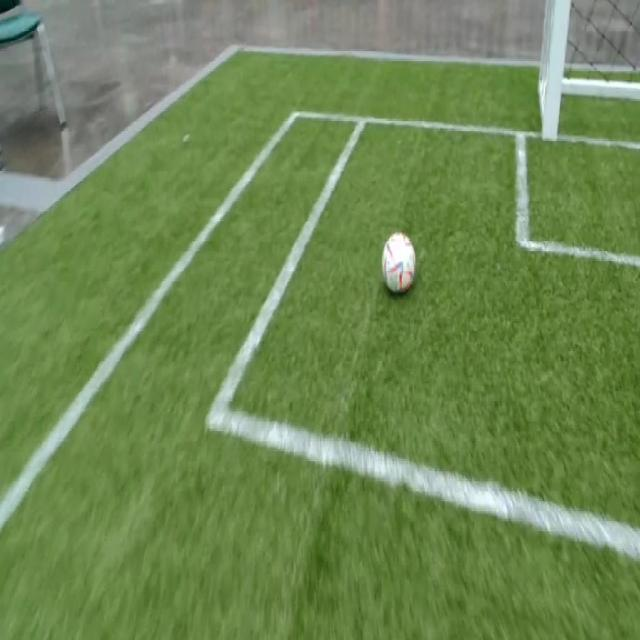ball: (382, 233, 415, 292)
goalpost: (541, 95, 560, 140)
